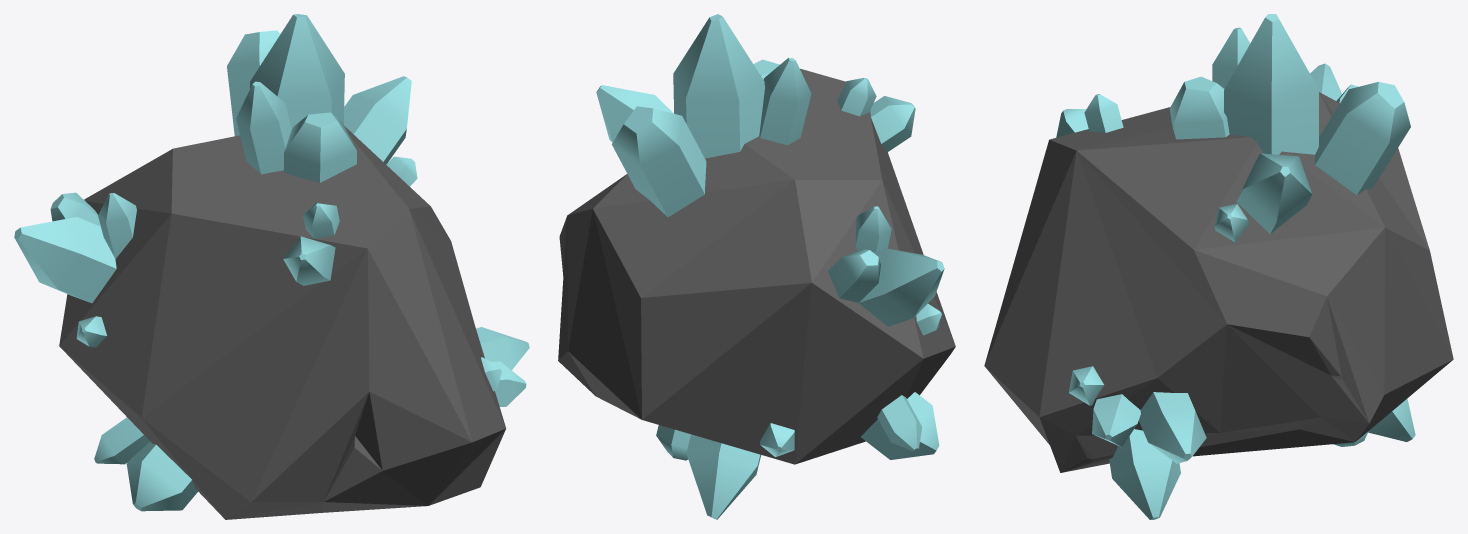
File: crystal_stone_3.fbx
3 views of the same model, side by side, from view 1: azimuth 30°, elevation 25°; view 2: azimuth 150°, elevation 25°; view 3: azimuth 270°, elevation 25° (orthographic). The views are drawn at different scales.
Parts seen in each view (by area): view 1: Cliff5_low, pCube69, pCube26, pCube27, pCube32, pCube31, pCube83, pCube28, pCube92, pCube80, pCube85, pCube90 (+5 smaller); view 2: Cliff5_low, pCube69, pCube28, pCube26, pCube82, pCube31, pCube83, pCube70, pCube27, pCube92, pCube85, pCube80 (+4 smaller); view 3: Cliff5_low, pCube69, pCube28, pCube27, pCube89, pCube90, pCube32, pCube88, pCube31, pCube91, pCube82, pCube87 (+3 smaller).
Boxes of the visible parts, x1=… form: Cliff5_low: x1=59, y1=126, x2=506, y2=519; pCube69: x1=250, y1=14, x2=344, y2=129; pCube26: x1=14, y1=217, x2=116, y2=303; pCube27: x1=343, y1=76, x2=411, y2=164; pCube32: x1=284, y1=112, x2=356, y2=182; pCube31: x1=236, y1=81, x2=291, y2=174; pCube83: x1=126, y1=441, x2=197, y2=511; pCube28: x1=227, y1=30, x2=280, y2=136; pCube92: x1=283, y1=236, x2=335, y2=285; pCube80: x1=98, y1=193, x2=136, y2=258; pCube85: x1=94, y1=417, x2=149, y2=464; pCube90: x1=476, y1=327, x2=529, y2=370; Cliff5_low: x1=558, y1=68, x2=955, y2=464; pCube69: x1=673, y1=14, x2=764, y2=158; pCube28: x1=612, y1=106, x2=706, y2=217; pCube26: x1=859, y1=248, x2=944, y2=326; pCube82: x1=686, y1=434, x2=761, y2=519; pCube31: x1=759, y1=57, x2=811, y2=145; pCube83: x1=861, y1=392, x2=939, y2=459; pCube70: x1=828, y1=249, x2=880, y2=302; pCube27: x1=596, y1=85, x2=673, y2=142; pCube92: x1=870, y1=96, x2=915, y2=152; pCube85: x1=877, y1=395, x2=922, y2=451; pCube80: x1=855, y1=206, x2=891, y2=252; Cliff5_low: x1=984, y1=92, x2=1453, y2=472; pCube69: x1=1224, y1=14, x2=1318, y2=154; pCube28: x1=1315, y1=81, x2=1410, y2=194; pCube27: x1=1236, y1=153, x2=1312, y2=233; pCube89: x1=1109, y1=429, x2=1180, y2=519; pCube90: x1=1139, y1=392, x2=1206, y2=463; pCube32: x1=1169, y1=76, x2=1229, y2=139; pCube88: x1=1092, y1=394, x2=1140, y2=447; pCube31: x1=1212, y1=27, x2=1250, y2=88; pCube91: x1=1084, y1=94, x2=1123, y2=132; pCube82: x1=1368, y1=398, x2=1415, y2=441; pCube87: x1=1069, y1=366, x2=1103, y2=405.
Bounding box in the file's own units: 3.16 × 3.07 × 2.85.
